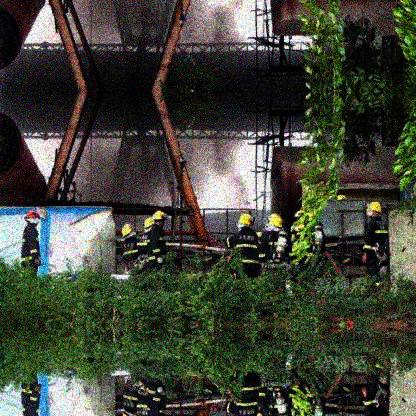helmet: (364, 201, 382, 219), (153, 210, 169, 230), (24, 210, 41, 225), (239, 214, 253, 230), (269, 213, 281, 231), (120, 224, 135, 238), (142, 218, 153, 235)
